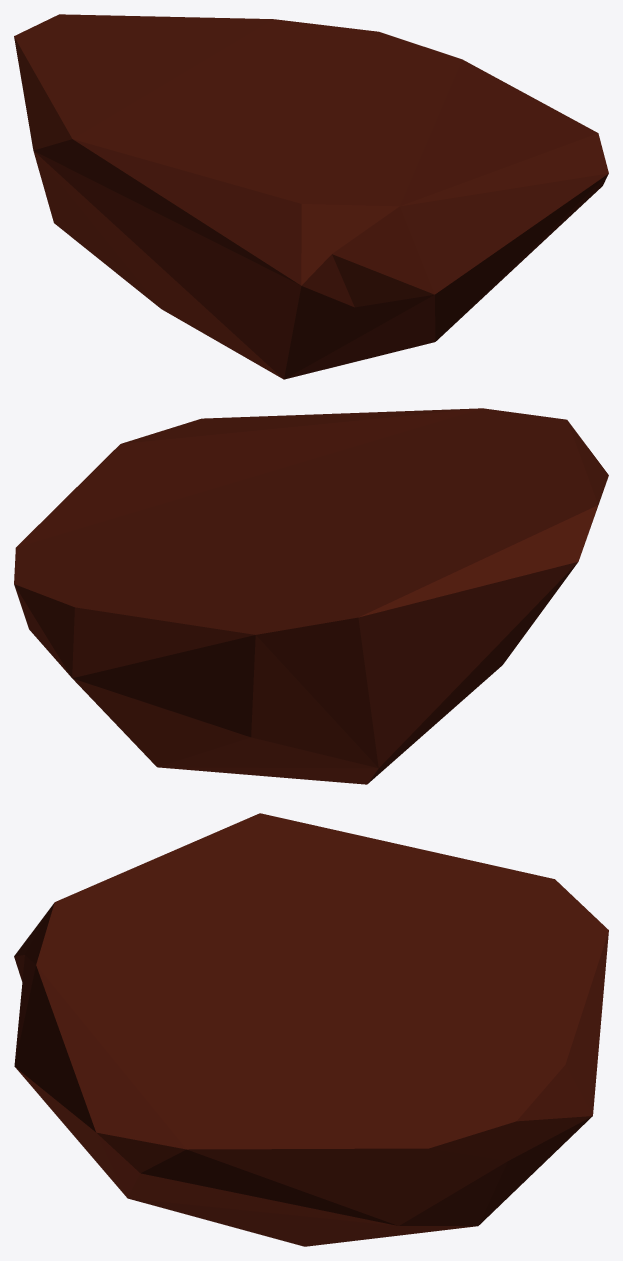
File: rocher_island_3.FBX
3 renders of one model, top to bottom at view 1: azimuth 30°, elevation 25°; view 2: azimuth 150°, elevation 25°; view 3: azimuth 270°, elevation 25°, orthographic. The views are drawn at different scales.
Parts seen in each view (by area): view 1: GeoSphere010; view 2: GeoSphere010; view 3: GeoSphere010.
Boxes of the visible parts, left/top/right/bottom form: GeoSphere010: left=14, top=14, right=608, bottom=379; GeoSphere010: left=14, top=408, right=608, bottom=784; GeoSphere010: left=14, top=813, right=608, bottom=1246.
Size of the model in its own units: 55.32 by 29.61 by 55.35.
